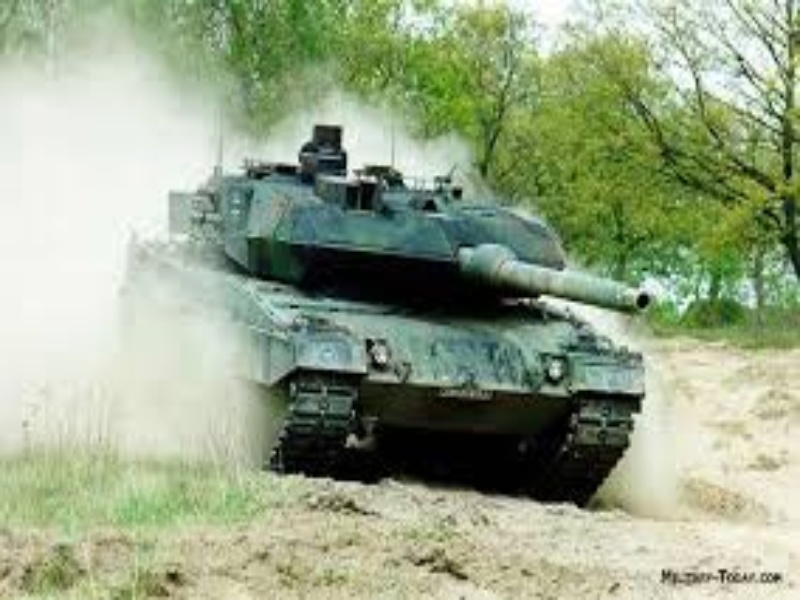tank: (109, 123, 654, 511)
